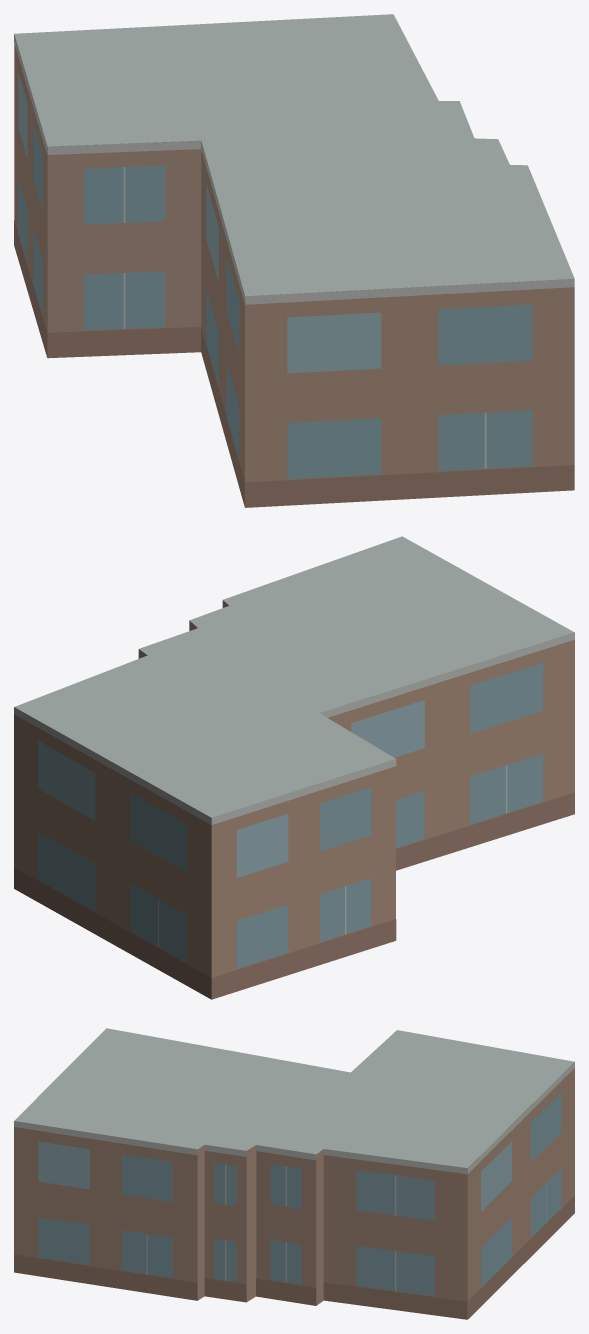
Rendered from survey-upis-32698403.glb.
3 views of the same model, one above another, from view 1: azimuth 30°, elevation 25°; view 2: azimuth 150°, elevation 25°; view 3: azimuth 270°, elevation 25° (orthographic). The views are drawn at different scales.
Visible parts, largest first — view 1: survey-upis-32698403.tmp; view 2: survey-upis-32698403.tmp; view 3: survey-upis-32698403.tmp.
Part boxes in pixels (left/top/right/bottom): survey-upis-32698403.tmp: left=14, top=14, right=574, bottom=507; survey-upis-32698403.tmp: left=14, top=536, right=574, bottom=999; survey-upis-32698403.tmp: left=14, top=1028, right=574, bottom=1319.
Bounding box in the file's own units: 12.1 × 6.1 × 20.46.
